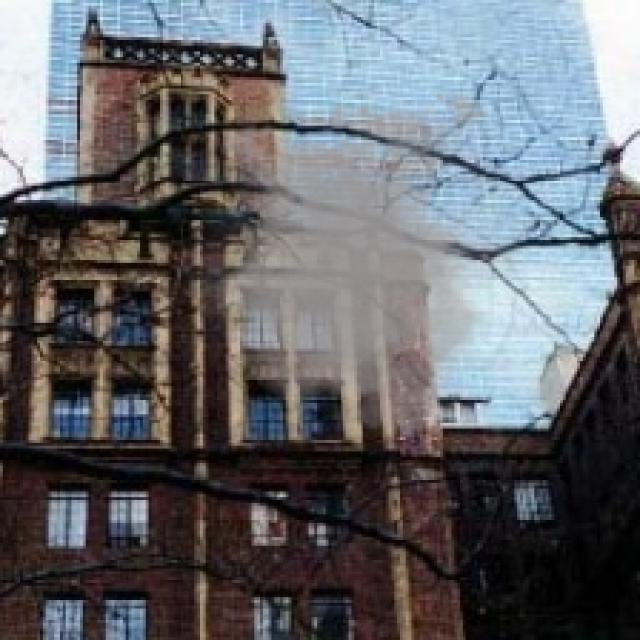smoke: (166, 80, 543, 440)
